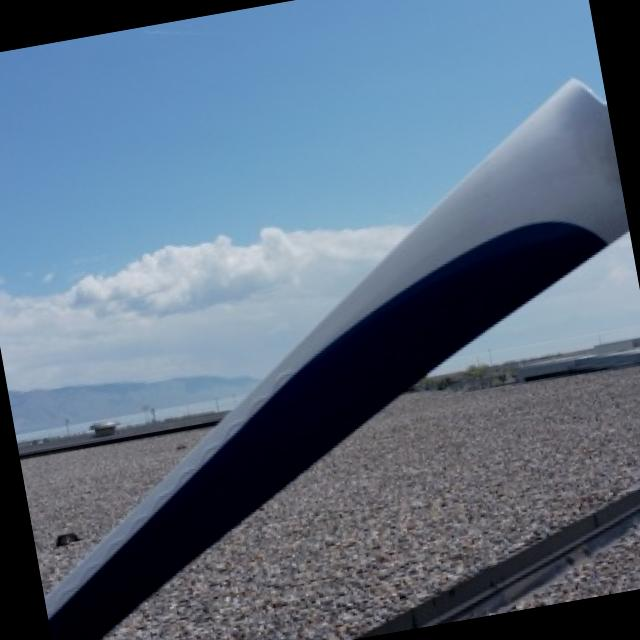healthy: (46, 81, 625, 640)
